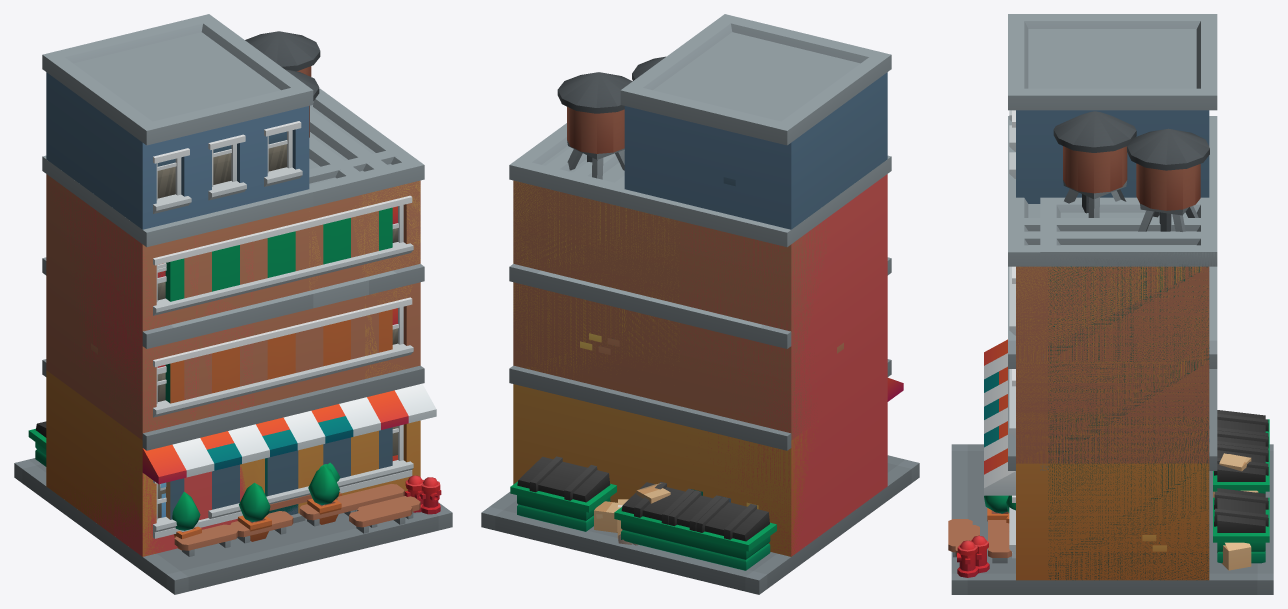
The model's file is city.glb.
3 views of the same model, side by side, from view 1: azimuth 30°, elevation 25°; view 2: azimuth 150°, elevation 25°; view 3: azimuth 270°, elevation 25° (orthographic).
Visible parts, largest first — view 1: building_E, building_E_withoutBase, building_H_withoutBase, building_H, building_D, building_F_withoutBase, building_F, building_B, building_G, building_A, building_C, building_D_withoutBase (+3 smaller); view 2: building_E, building_H, building_H_withoutBase, building_F_withoutBase, building_F, building_C, building_E_withoutBase, building_G, building_D, building_B, building_A; view 3: building_E_withoutBase, building_F_withoutBase, building_H, building_H_withoutBase, building_D, building_G_withoutBase, building_E, building_C, building_G, building_B, building_A, building_D_withoutBase (+2 smaller).
Part boxes in pixels (box(x1,y1,x2,y2)): building_E: box(91, 106, 436, 556); building_E_withoutBase: box(42, 153, 423, 541); building_H_withoutBase: box(42, 14, 313, 520); building_H: box(28, 14, 420, 533); building_D: box(15, 69, 452, 594); building_F_withoutBase: box(42, 101, 424, 556); building_F: box(142, 181, 424, 556); building_B: box(170, 270, 396, 543); building_G: box(43, 88, 441, 523); building_A: box(199, 277, 423, 513); building_C: box(14, 155, 340, 594); building_D_withoutBase: box(185, 108, 395, 306); building_E: box(510, 146, 843, 556); building_H: box(557, 14, 890, 570); building_H_withoutBase: box(509, 14, 891, 450); building_F_withoutBase: box(509, 174, 889, 556); building_F: box(513, 181, 791, 556); building_C: box(481, 160, 919, 594); building_E_withoutBase: box(760, 156, 903, 556); building_G: box(510, 123, 890, 563); building_D: box(482, 56, 918, 580); building_B: box(537, 270, 763, 547); building_A: box(565, 277, 734, 495); building_E_withoutBase: box(984, 222, 1217, 580); building_F_withoutBase: box(1008, 222, 1217, 580); building_H: box(955, 14, 1269, 570); building_H_withoutBase: box(1008, 14, 1217, 456); building_D: box(948, 111, 1273, 580); building_G_withoutBase: box(1040, 204, 1216, 579); building_E: box(972, 211, 1269, 573); building_C: box(951, 204, 1273, 594); building_G: box(957, 116, 1269, 577); building_B: box(988, 266, 1269, 531); building_A: box(971, 266, 1217, 573); building_D_withoutBase: box(1008, 197, 1200, 308).
Size of the model in its own units: 2.01 by 3.11 by 2.02.
1 material, 1 textured.
